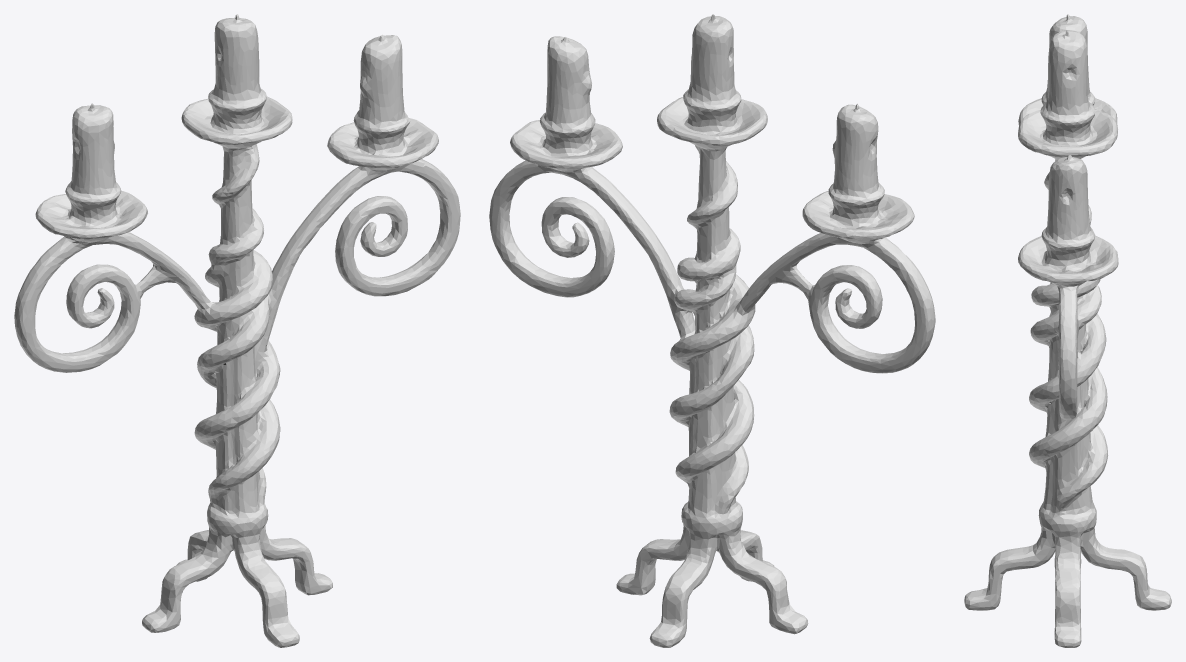
The model's file is orn_braz_stand01.glb.
3 views of the same model, side by side, from view 1: azimuth 30°, elevation 25°; view 2: azimuth 150°, elevation 25°; view 3: azimuth 270°, elevation 25° (orthographic). The views are drawn at different scales.
Parts seen in each view (by area): view 1: Low; view 2: Low; view 3: Low.
Part boxes in pixels (left/top/right/bottom): Low: left=14, top=14, right=460, bottom=647; Low: left=489, top=14, right=935, bottom=647; Low: left=964, top=14, right=1171, bottom=647.
Size of the model in its own units: 1.54 by 1.99 by 0.647.
1 material, 1 textured.
